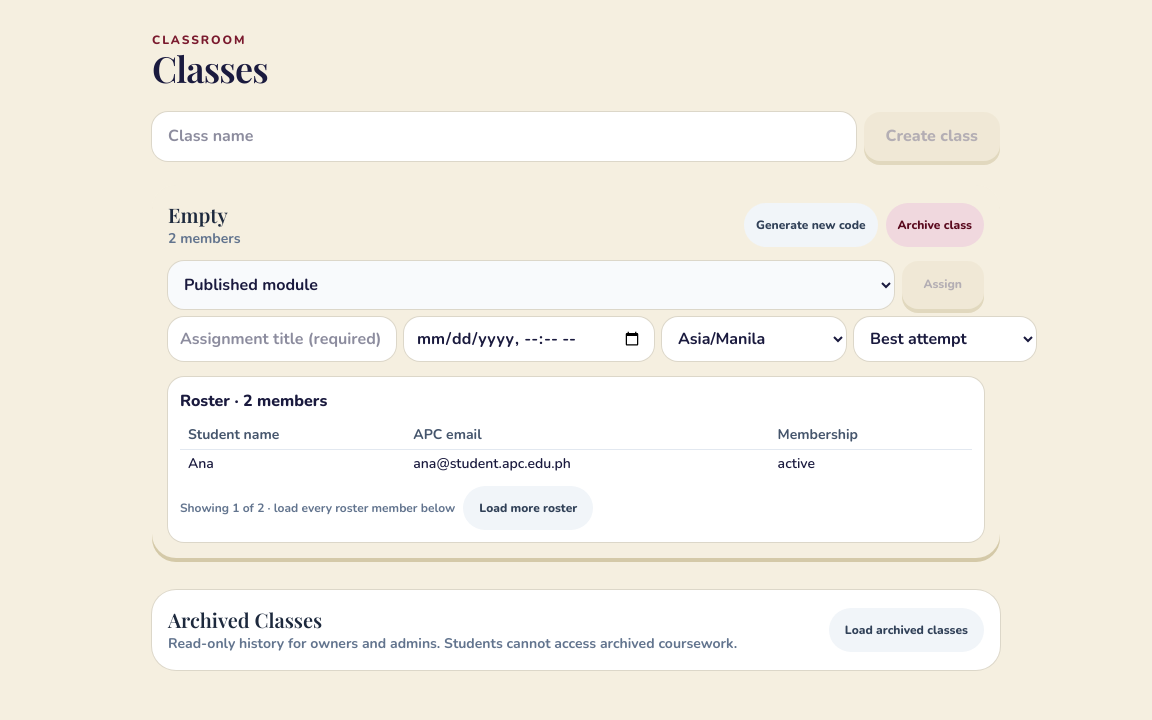
Test case: TeachClassesClient gradebook › loads every roster member via cursor, including zero-assignment classes
Click the button "Load more roster". click: (528, 508)
box: x1=463 y1=486 x2=593 y2=530
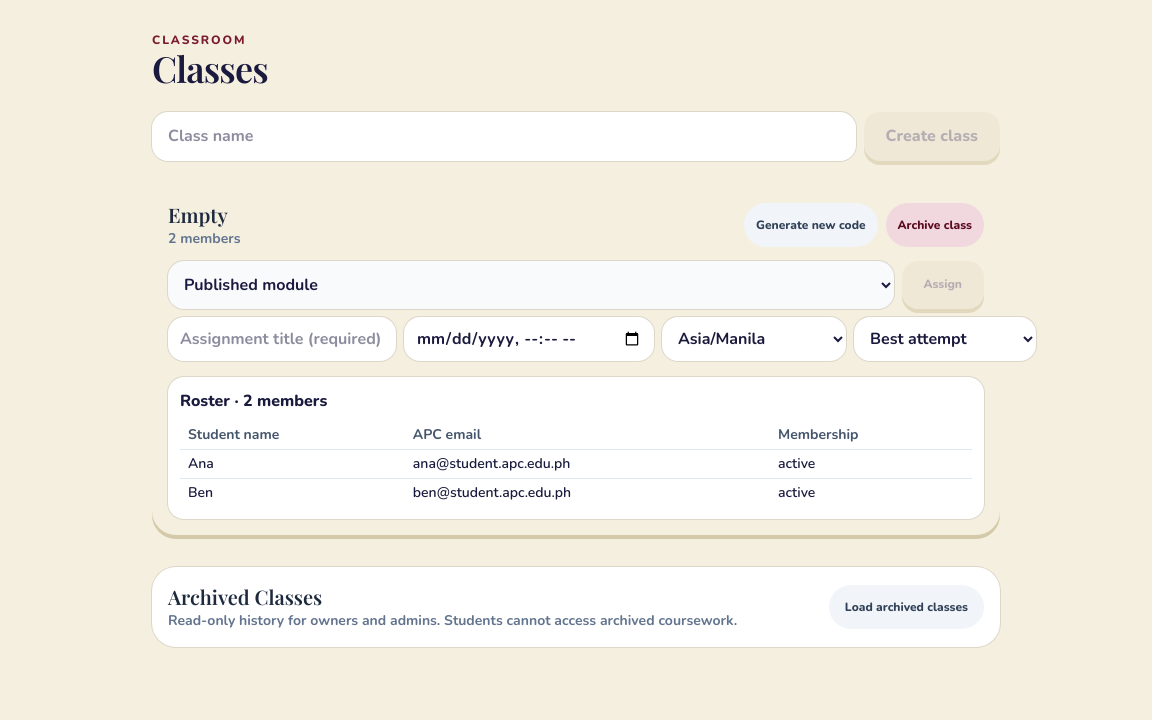
expect the text "ben@student.apc.edu.ph" is shown: met, box x1=405 y1=478 x2=770 y2=507
